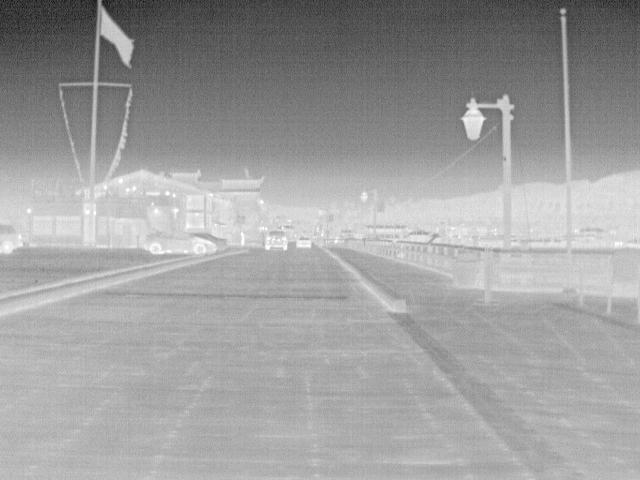car: (142, 231, 216, 256), (185, 231, 231, 252), (1, 224, 28, 255), (264, 229, 291, 250), (293, 235, 312, 251)
person: (238, 228, 247, 246)
